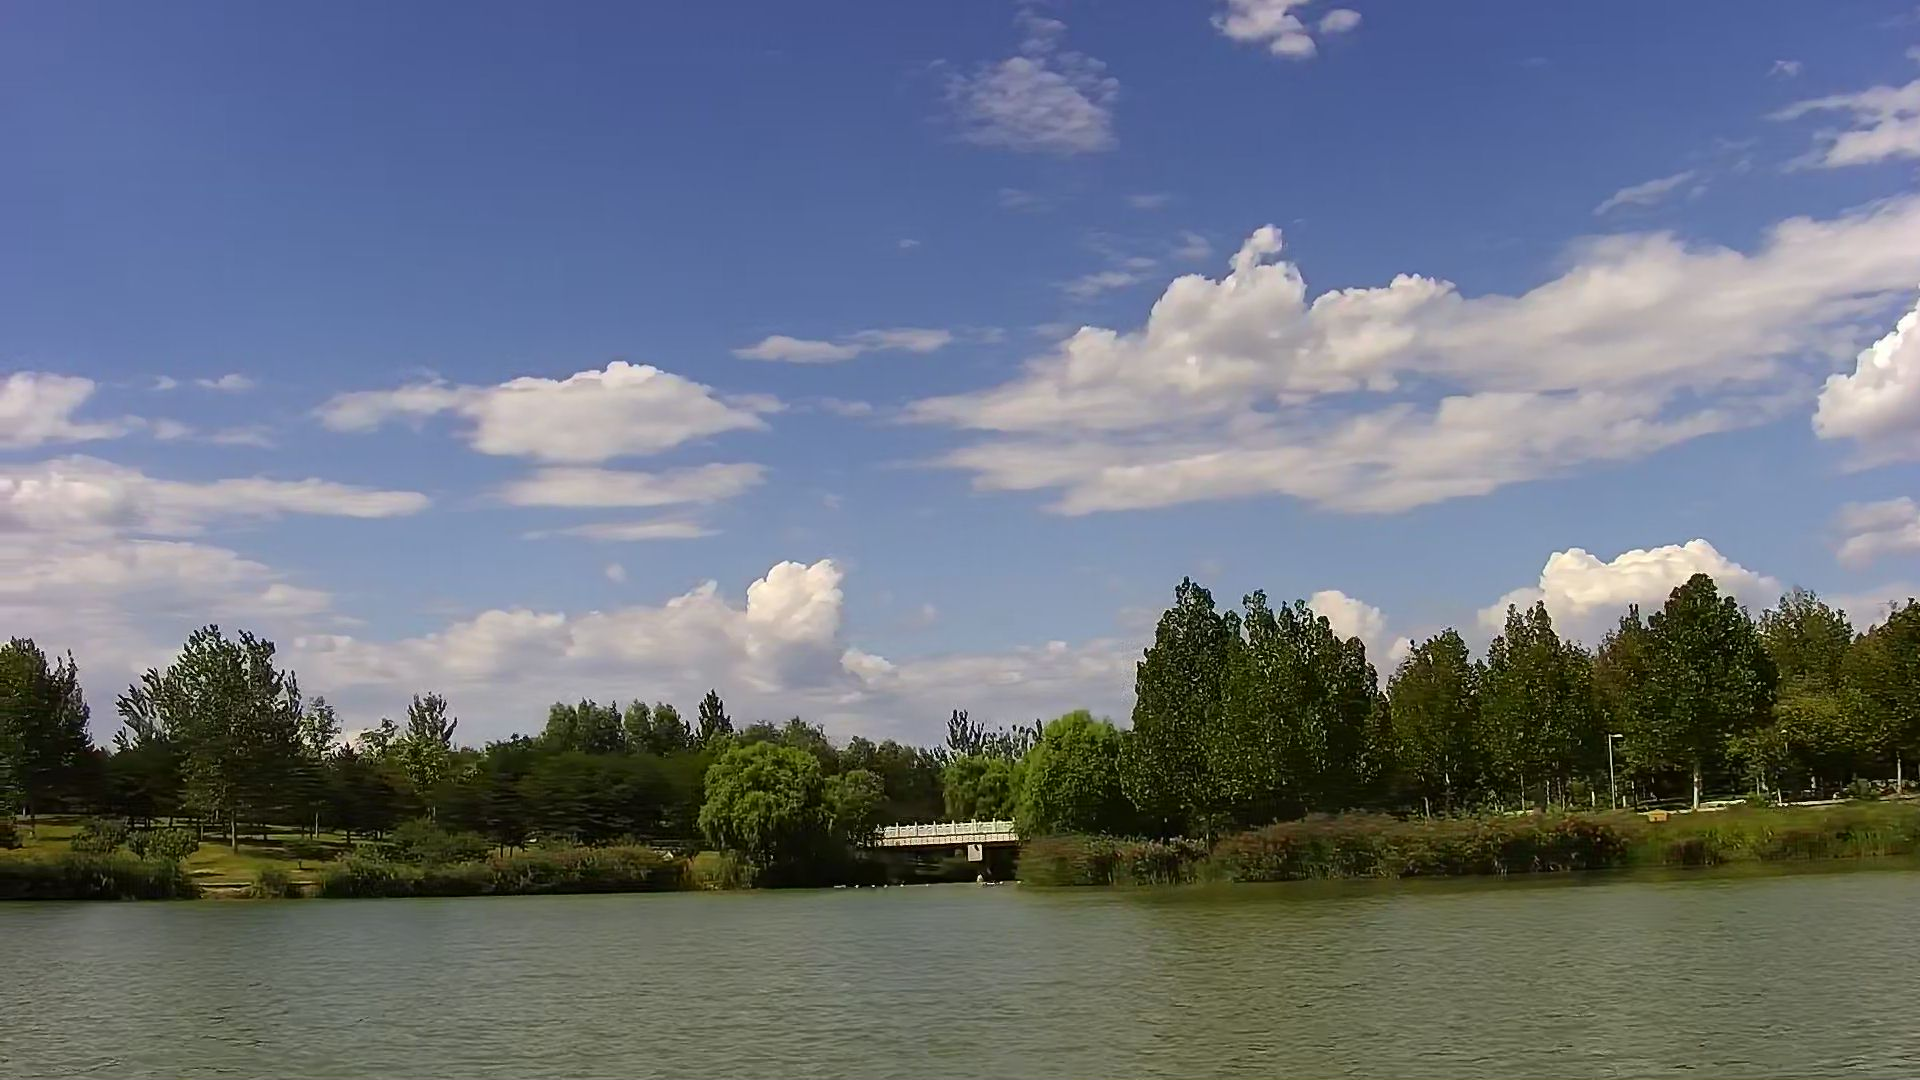bridge: (874, 820, 1013, 884)
